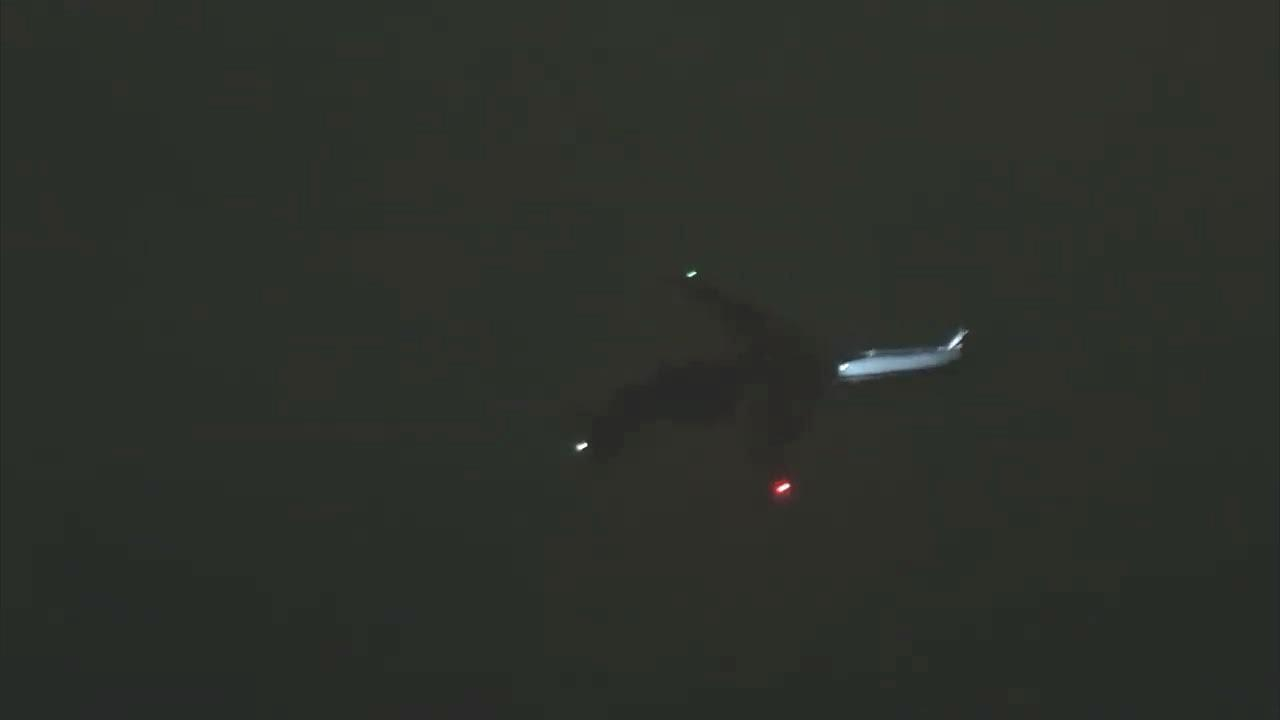Plane: (517, 256, 1000, 523)
